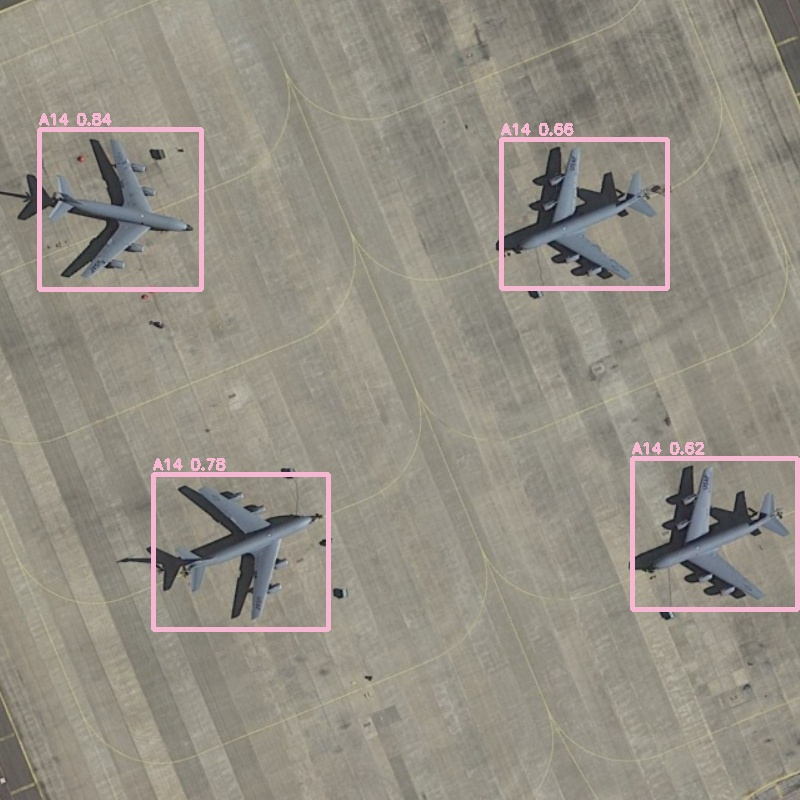A14: (153, 474, 328, 629), (39, 129, 201, 289), (632, 458, 797, 609), (501, 139, 667, 288)
